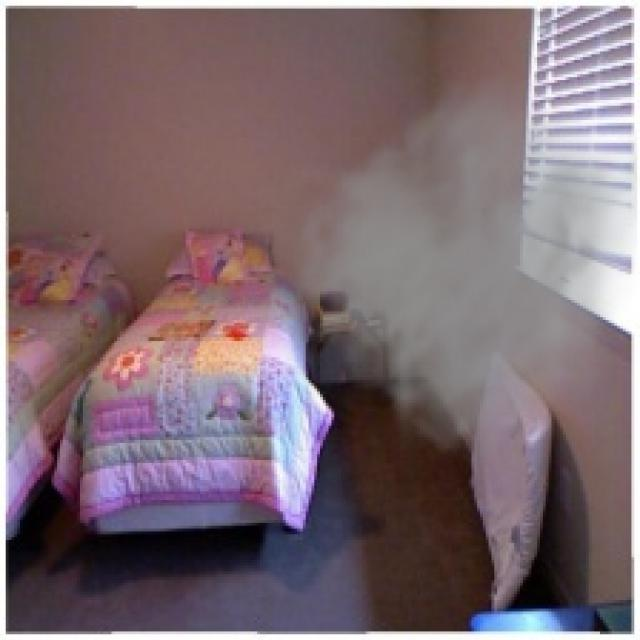smoke: (252, 60, 637, 471)
